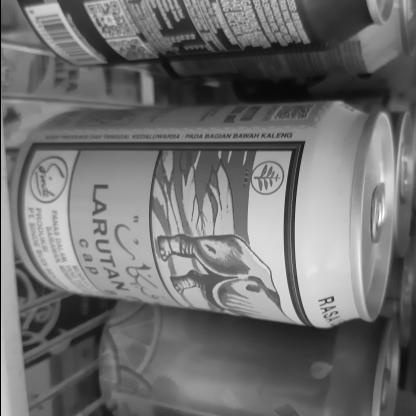alumunium_can: (16, 84, 414, 344)
